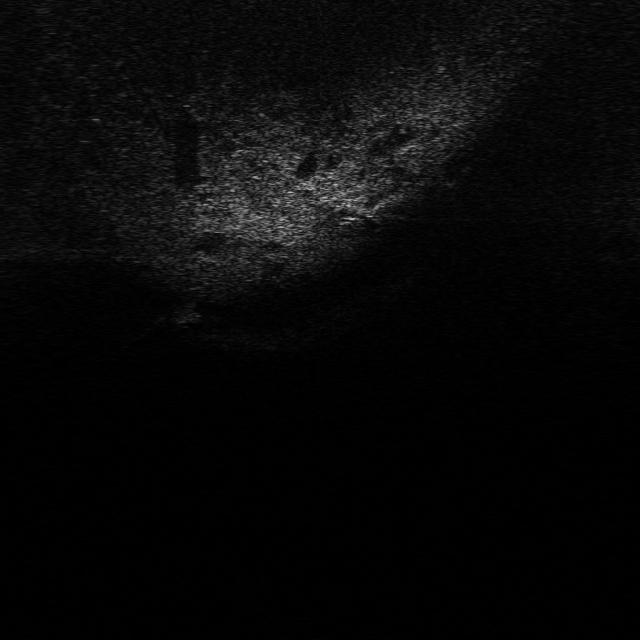cube: (168, 302, 201, 326)
